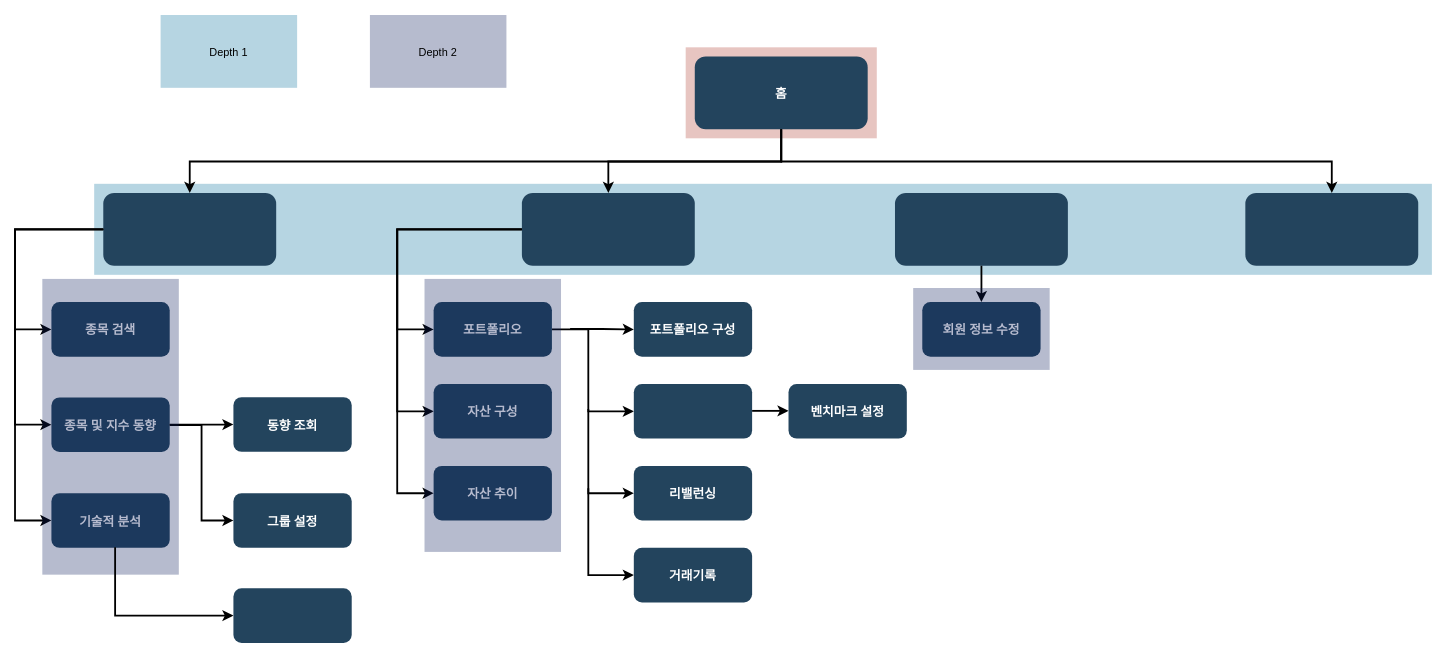
Image size: 1447x658. Some labels were removed from this diagram. Each missing label, with the centre of its shape:
"내 자산" belongs at pixel 607 228.
"백테스팅 설정" belongs at pixel 292 615.
"알림" belongs at pixel 1331 228.
"종목" belongs at pixel 189 228.
"포트폴리오 분석" belongs at pixel 692 411.
"프로필" belongs at pixel 981 228.
